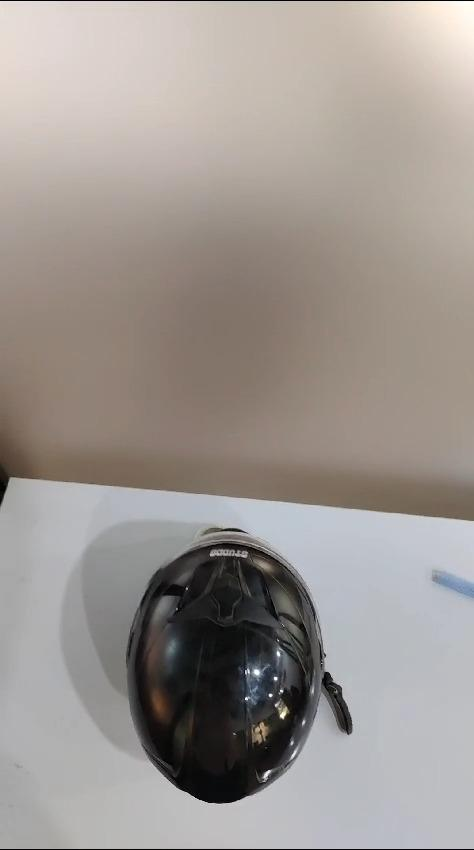Helmet: (114, 526, 329, 815)
